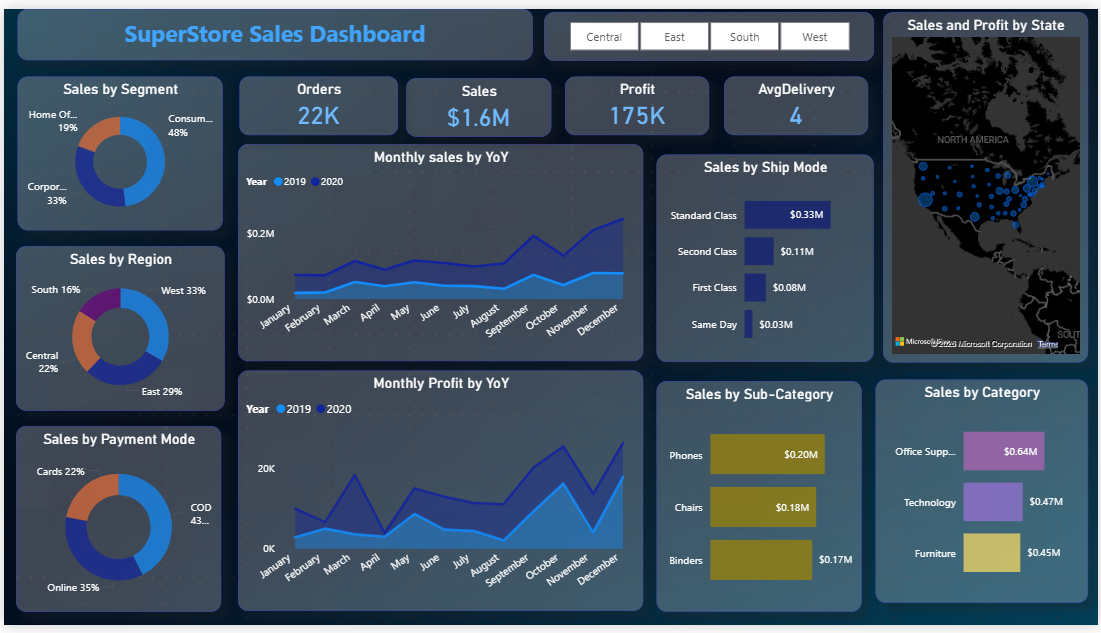

The page's visual inventory and layout, read from the dashboard file:
{"tool":"powerbi","page":{"name":"Sales Dashboard","canvas":[1280,720],"ordinal":0},"visuals":[{"type":"clusteredBarChart","title":" Sales by Category","fields":{"Category":["SuperStore_Sales.Category"],"Y":["Sum(SuperStore_Sales.Sales)"]},"box":[1020,432.9,248.6,271.4],"z":0},{"type":"clusteredBarChart","title":" Sales by Sub-Category","fields":{"Category":["SuperStore_Sales.Sub-Category"],"Y":["Sum(SuperStore_Sales.Sales)"]},"box":[762.9,422.9,247.1,281.4],"z":1000},{"type":"clusteredBarChart","title":" Sales by Ship Mode","fields":{"Category":["SuperStore_Sales.Ship Mode"],"Y":["Sum(SuperStore_Sales.Sales)"]},"box":[762.9,170,254.3,242.9],"z":2000},{"type":"stackedAreaChart","title":"Monthly sales by YoY","fields":{"Category":["SuperStore_Sales.Order Date.Variation.Date Hierarchy.Month"],"Y":["Sum(SuperStore_Sales.Sales)"],"Series":["SuperStore_Sales.Order Date.Variation.Date Hierarchy.Year"]},"box":[274.3,158.6,474.3,254.3],"z":3000},{"type":"stackedAreaChart","title":"Monthly Profit by YoY","fields":{"Category":["SuperStore_Sales.Order Date.Variation.Date Hierarchy.Month"],"Series":["SuperStore_Sales.Order Date.Variation.Date Hierarchy.Year"],"Y":["Sum(SuperStore_Sales.Profit)"]},"box":[274.3,422.9,474.3,281.4],"z":4000},{"type":"map","title":" Sales and  Profit by State","fields":{"Category":["SuperStore_Sales.State"],"Size":["Sum(SuperStore_Sales.Sales)"]},"box":[1028.6,2.9,240,410],"z":5000},{"type":"donutChart","title":"Sales by Segment","fields":{"Y":["Sum(SuperStore_Sales.Sales)"],"Category":["SuperStore_Sales.Segment"]},"box":[15.7,78.6,240,180],"z":6000},{"type":"donutChart","title":"Sales by Payment Mode","fields":{"Y":["Sum(SuperStore_Sales.Sales)"],"Category":["SuperStore_Sales.Payment Mode"]},"box":[14.3,487.1,244.3,217.1],"z":7000},{"type":"slicer","fields":{"Values":["SuperStore_Sales.Region"]},"box":[631.4,2.9,385.7,57.1],"z":8000},{"type":"textbox","box":[15.7,0,602.9,60],"z":9000},{"type":"card","title":"Sales","fields":{"Values":["Sum(SuperStore_Sales.Sales)"]},"box":[470,80,170,68.3],"z":10000},{"type":"card","title":"Orders","fields":{"Values":["Sum(SuperStore_Sales.Quantity)"]},"box":[275,78.3,185,68.3],"z":11000},{"type":"card","title":"Profit","fields":{"Values":["Sum(SuperStore_Sales.Profit)"]},"box":[656.7,78.3,168.3,68.3],"z":12000},{"type":"card","title":"AvgDelivery","fields":{"Values":["Avg(SuperStore_Sales.AvgDelivery)"]},"box":[841.7,78.3,168.3,68.3],"z":13000},{"type":"donutChart","title":"Sales by Region","fields":{"Y":["Sum(SuperStore_Sales.Sales)"],"Category":["SuperStore_Sales.Region"]},"box":[14.3,277.1,244.3,192.9],"z":14000}]}

Visuals, with their boxes in screenshot pixels (x1, y1, x2, y2), scaled from the page's 1280x720 canvas onto the 1101x633 screenshot:
" Sales by Category" clusteredBarChart: pyautogui.locateOnScreen(877, 381, 1091, 619)
" Sales by Sub-Category" clusteredBarChart: pyautogui.locateOnScreen(656, 372, 869, 619)
" Sales by Ship Mode" clusteredBarChart: pyautogui.locateOnScreen(656, 149, 875, 363)
"Monthly sales by YoY" stackedAreaChart: pyautogui.locateOnScreen(236, 139, 644, 363)
"Monthly Profit by YoY" stackedAreaChart: pyautogui.locateOnScreen(236, 372, 644, 619)
" Sales and  Profit by State" map: pyautogui.locateOnScreen(885, 3, 1091, 363)
"Sales by Segment" donutChart: pyautogui.locateOnScreen(14, 69, 220, 227)
"Sales by Payment Mode" donutChart: pyautogui.locateOnScreen(12, 428, 222, 619)
slicer - SuperStore_Sales.Region: pyautogui.locateOnScreen(543, 3, 875, 53)
textbox: pyautogui.locateOnScreen(14, 0, 532, 53)
"Sales" card: pyautogui.locateOnScreen(404, 70, 550, 130)
"Orders" card: pyautogui.locateOnScreen(237, 69, 396, 129)
"Profit" card: pyautogui.locateOnScreen(565, 69, 710, 129)
"AvgDelivery" card: pyautogui.locateOnScreen(724, 69, 869, 129)
"Sales by Region" donutChart: pyautogui.locateOnScreen(12, 244, 222, 413)
